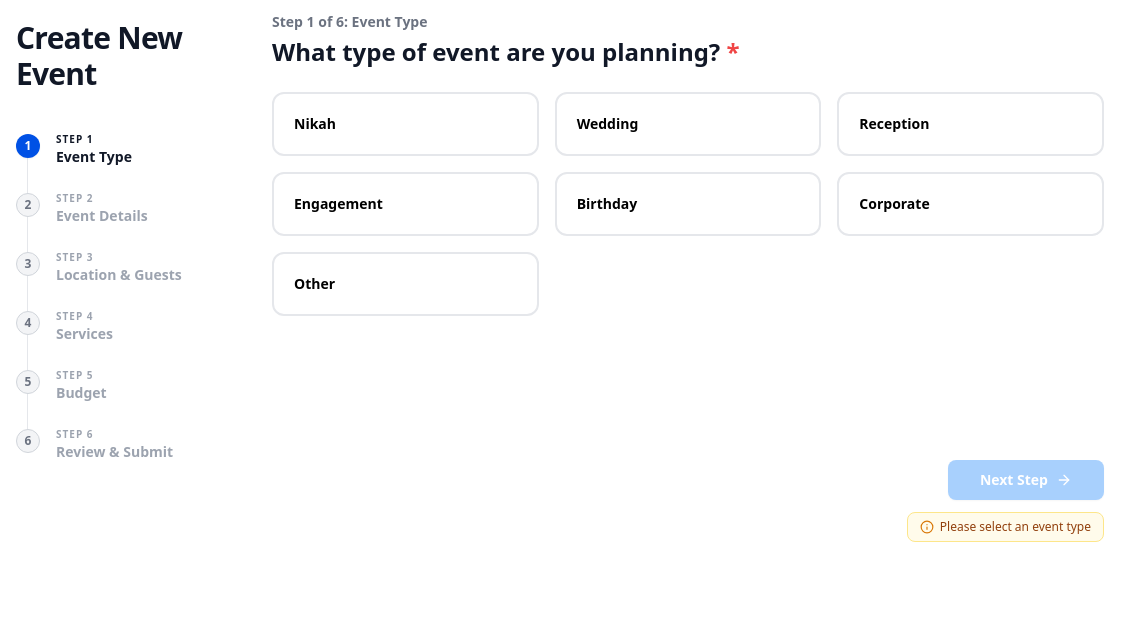
CreateEventWizard Component › validates Step 1: "Other" requires custom event type text
The width and height of the screenshot is (1121, 619).
Check: the heading "What type of event are you planning? *" is shown, box [272,35,740,68]
Check: the button "Next Step" is disabled, box [948,460,1104,500]
// Select 'Other'
Click the button "Other" at point(315, 284), box [272,252,539,316]
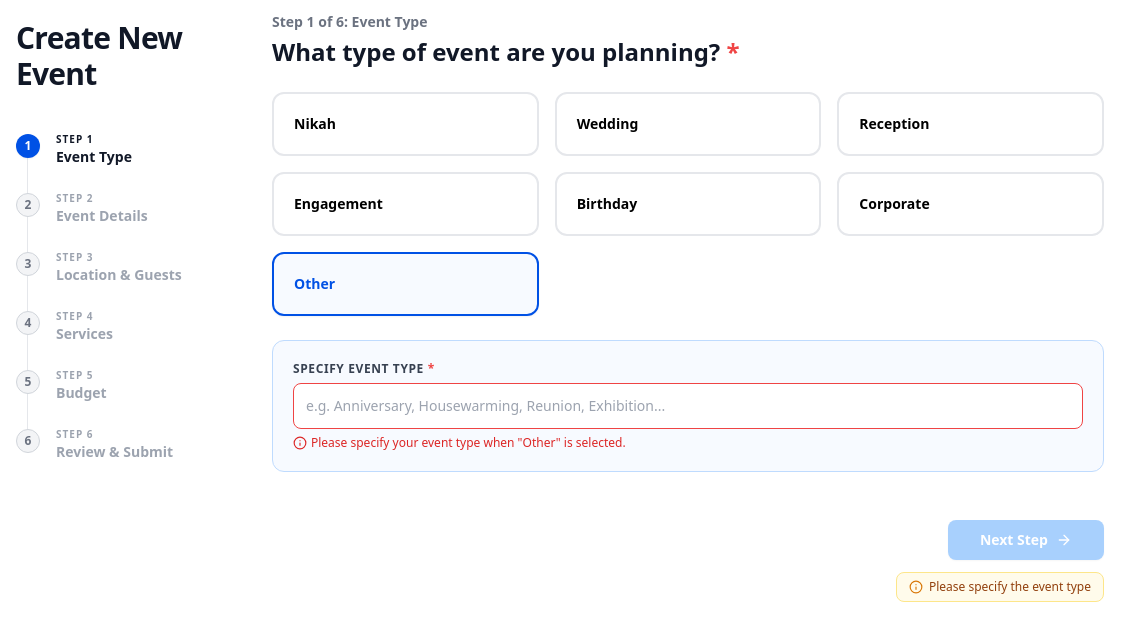
Check: the button "Next Step" is disabled, box [948,520,1104,560]
Check: the text "Specify Event Type *" is shown, box [293,360,435,377]
// Type custom event type
Type "Silver Jubilee" into the field with placeholder "e.g. Anniversary, Housewarming, Reunion, Exhibition..." at point(688, 406), box [293,383,1083,429]
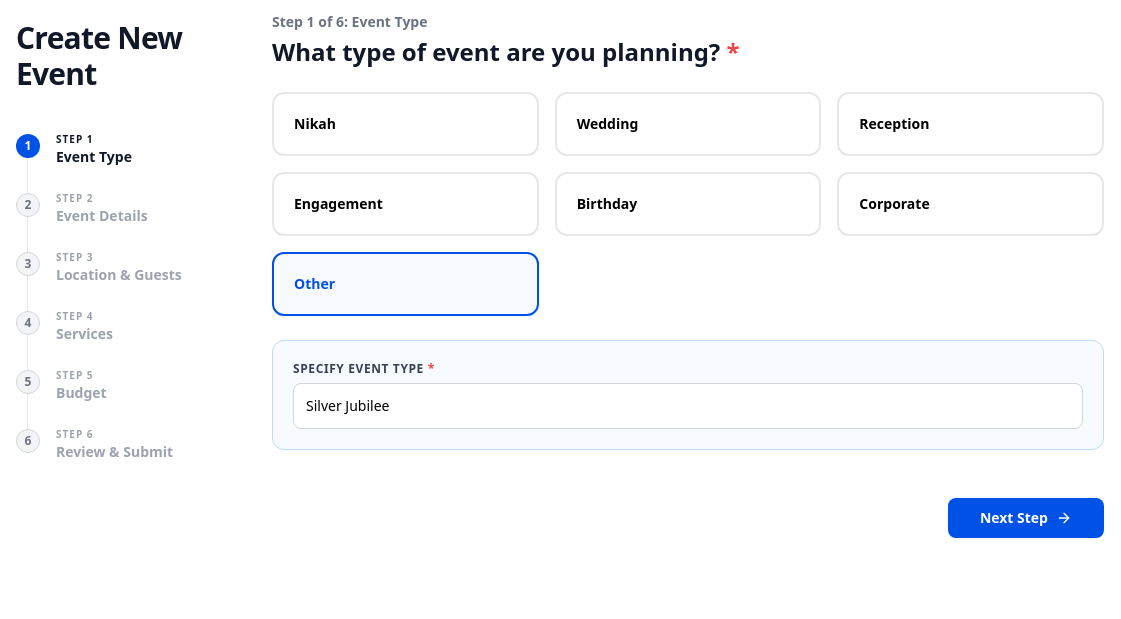
Check: the button "Next Step" is enabled, box [948,498,1104,538]
